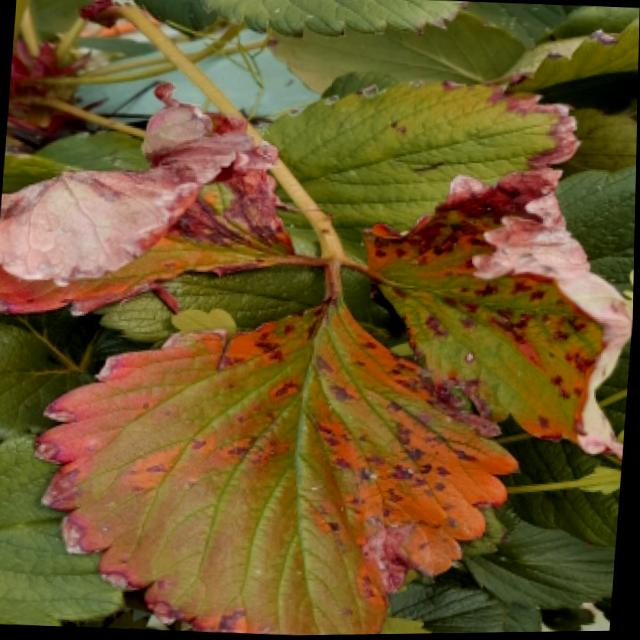Angular Leafspot: (35, 290, 522, 636), (348, 169, 634, 460), (0, 79, 322, 319), (259, 83, 583, 264)
